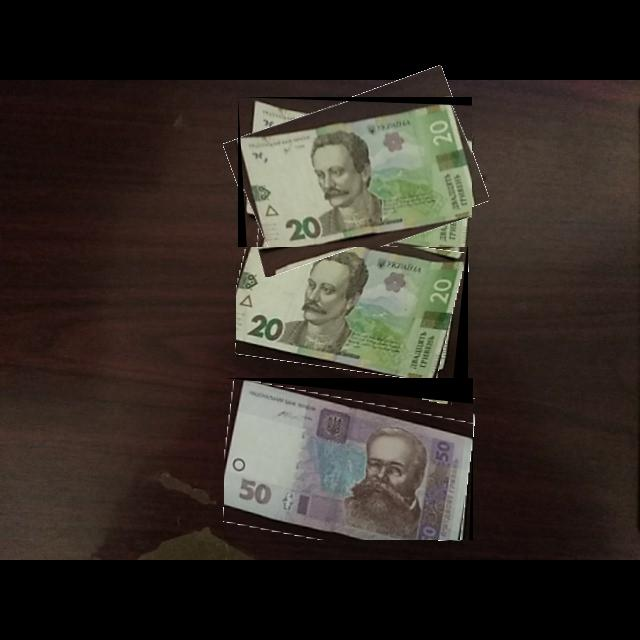20uah: (236, 227, 467, 382), (240, 104, 473, 248)
50uah: (224, 380, 474, 541)
